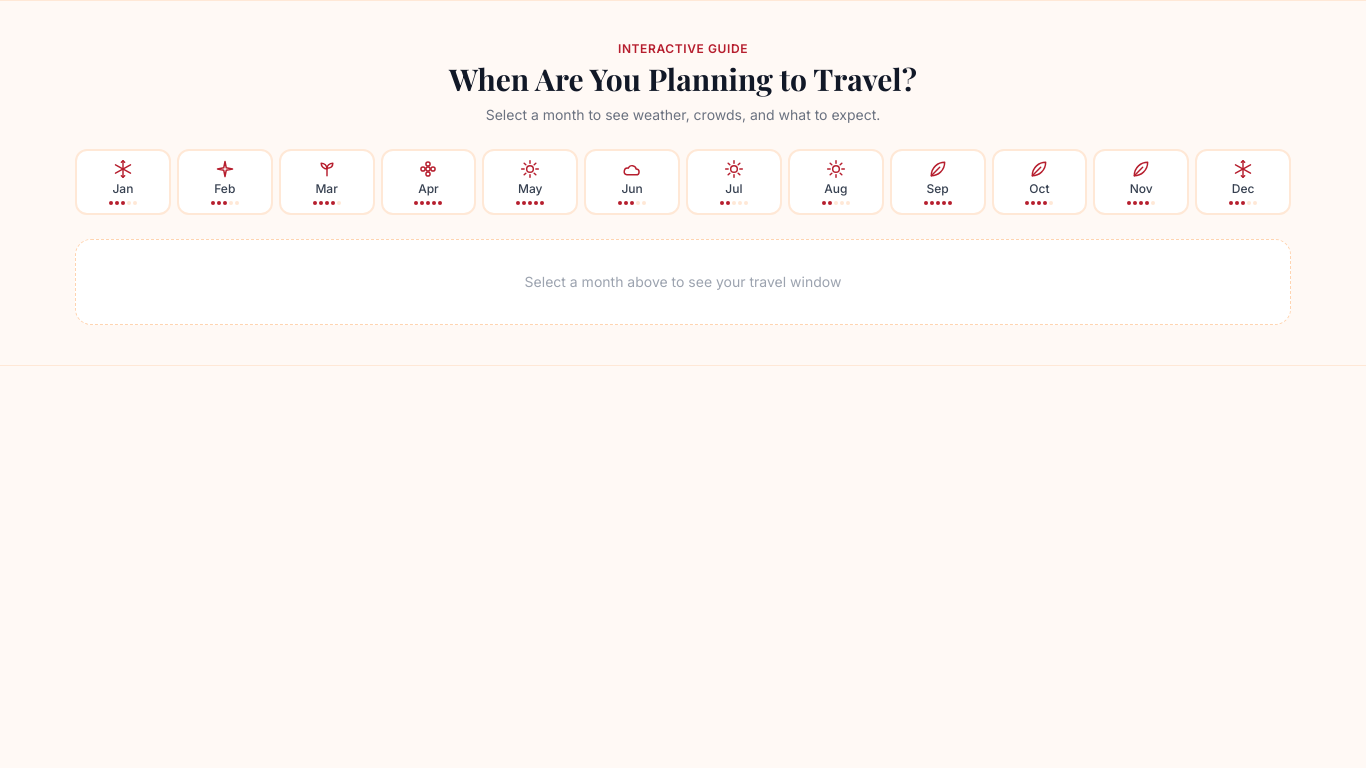
Scenario: MonthPickerWidget › shows detail panel when a month is selected
What coordinates should you click on to do the following:
click the button "Apr"
I would click on:
 (428, 182)
Its box is [380,149,476,215].
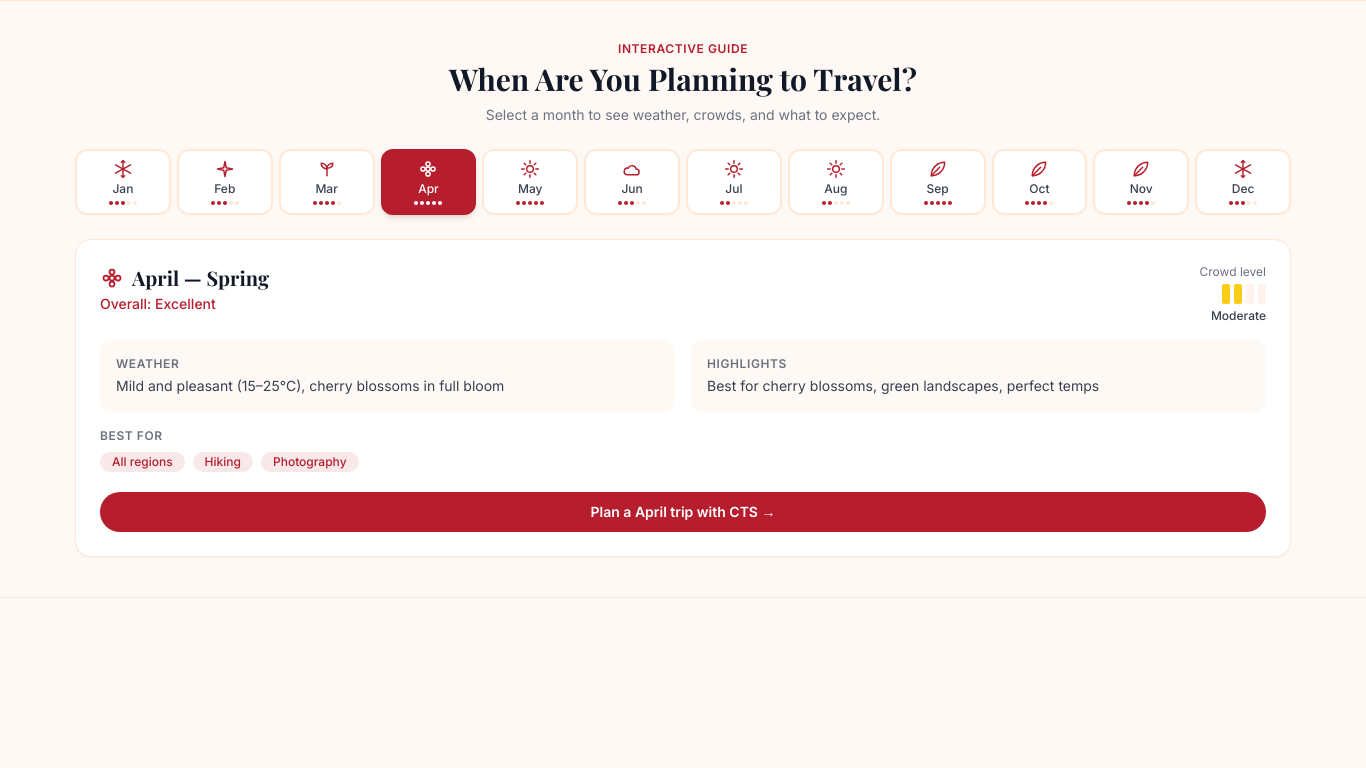
Result: the heading "April — Spring" is shown at [100,264,269,292]
Result: the text "Mild and pleasant (15–25°C), cherry blossoms in full bloom" is shown at [116,377,504,394]
